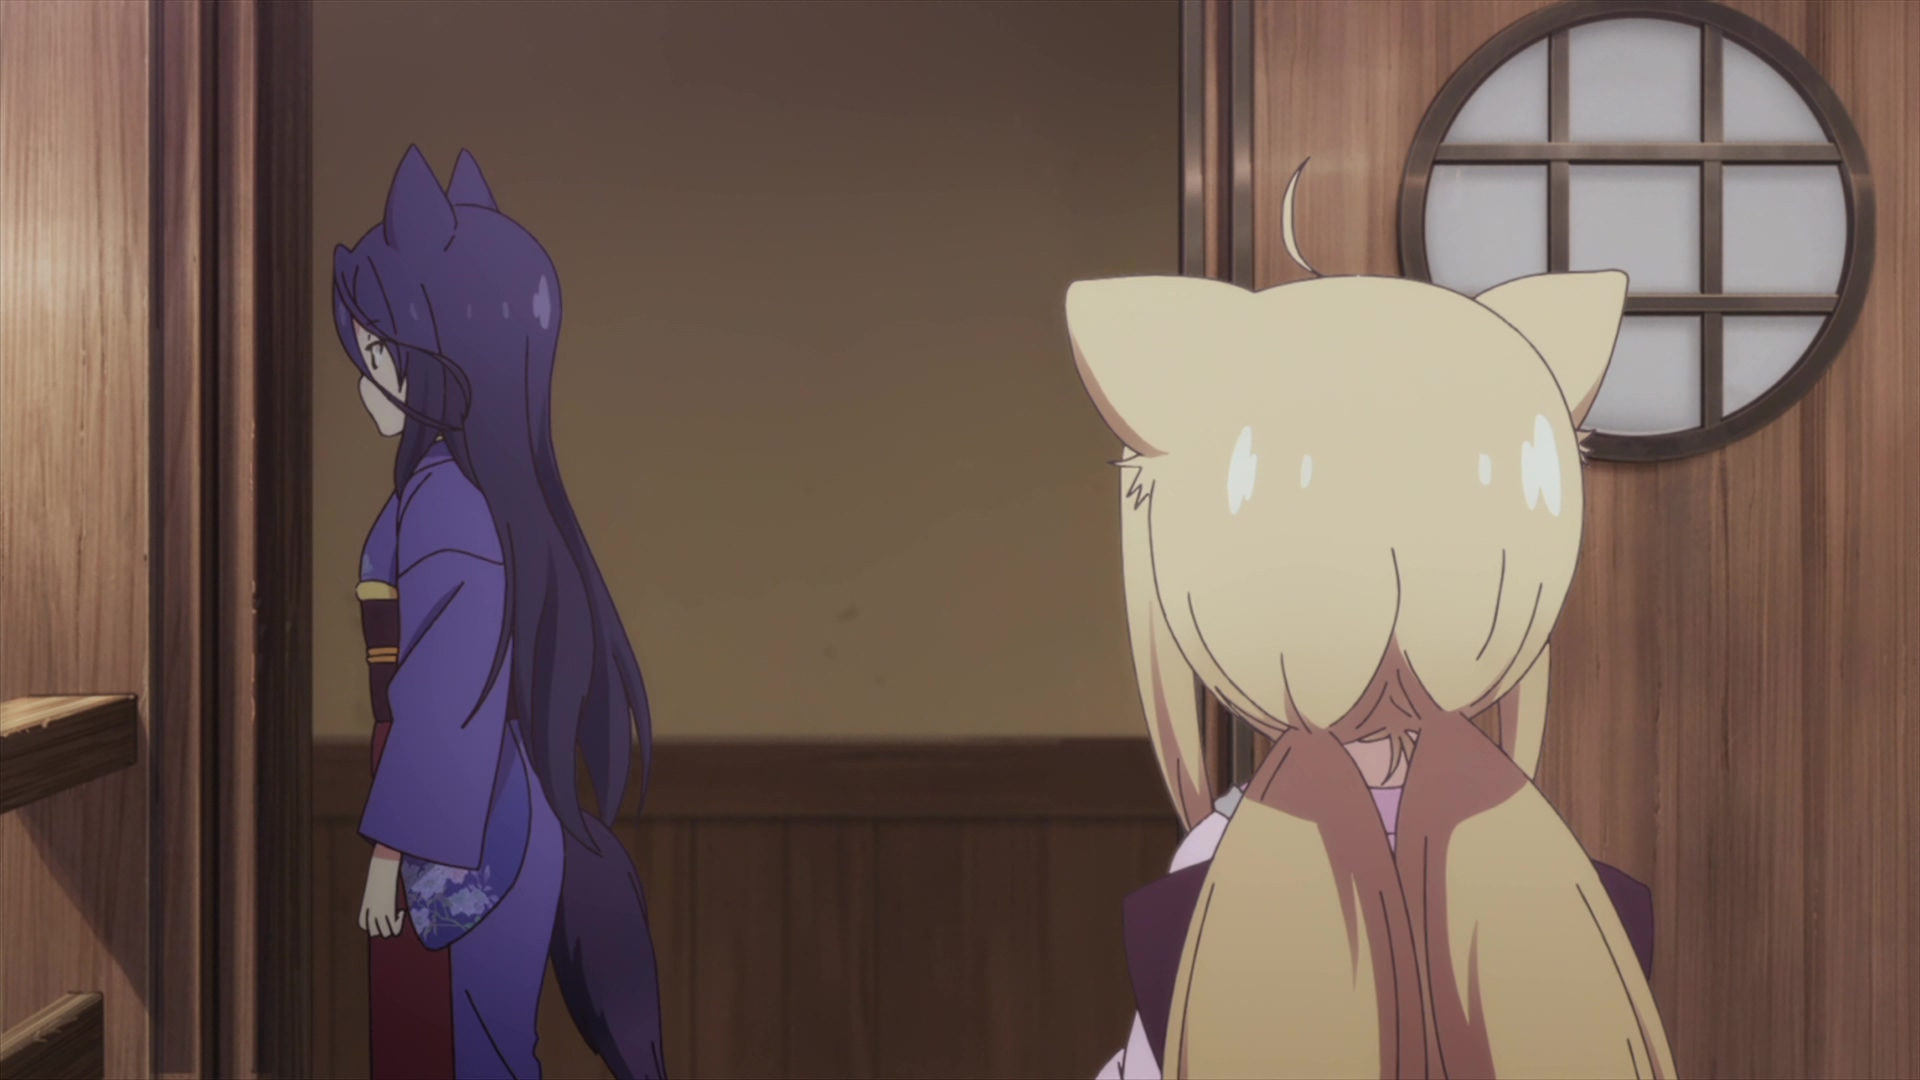柚: (1065, 157, 1675, 1080)
皋: (328, 142, 667, 1080)
